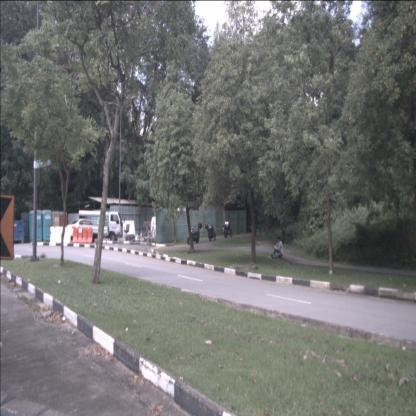barrier: (50, 225, 72, 245), (72, 226, 93, 244)
